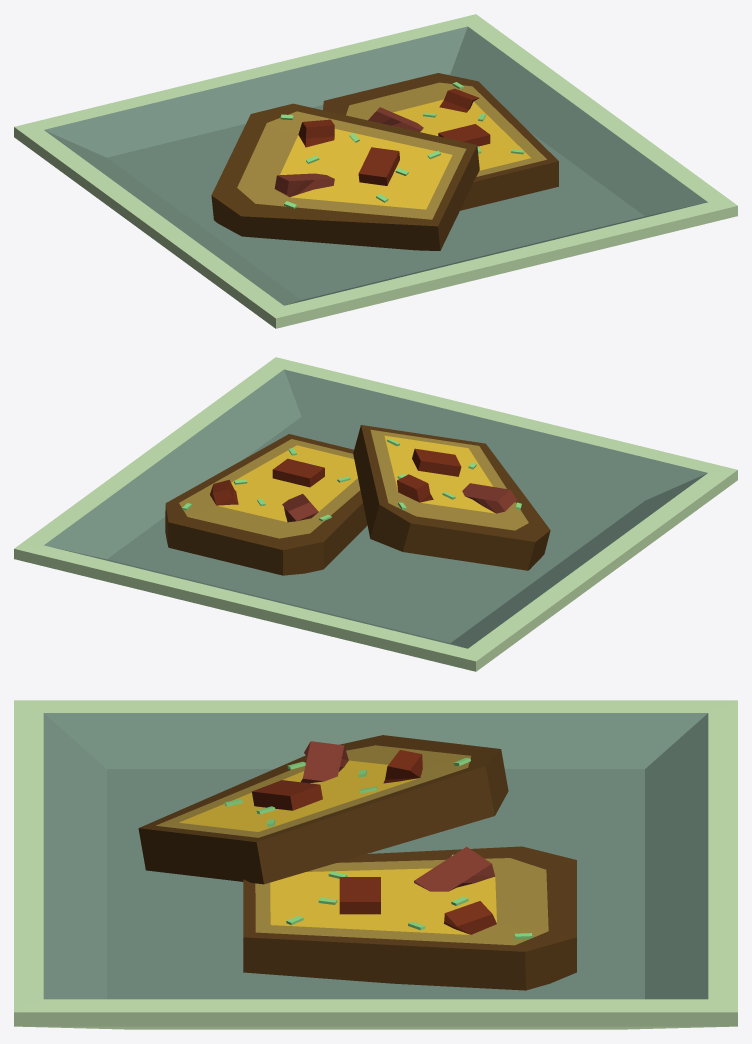
Rendered from garlictoast.fbx.
The picture shows the model from 3 angles, top to bottom: view 1: azimuth 30°, elevation 25°; view 2: azimuth 150°, elevation 25°; view 3: azimuth 270°, elevation 25°; orthographic projection. The views are drawn at different scales.
Visible parts, largest first — view 1: Plate.002, Cube.009, Cube.001; view 2: Plate.002, Cube.001, Cube.009; view 3: Plate.002, Cube.001, Cube.009.
Part boxes in pixels (x1,y1,x2,y2): Plate.002: [14, 14, 737, 328]; Cube.009: [211, 103, 479, 250]; Cube.001: [323, 73, 558, 210]; Plate.002: [14, 357, 737, 671]; Cube.001: [165, 434, 367, 575]; Cube.009: [353, 425, 550, 570]; Plate.002: [14, 700, 737, 1029]; Cube.001: [243, 846, 576, 990]; Cube.009: [138, 735, 508, 884].
Size of the model in its own units: 6.36 by 1.33 by 6.24.
